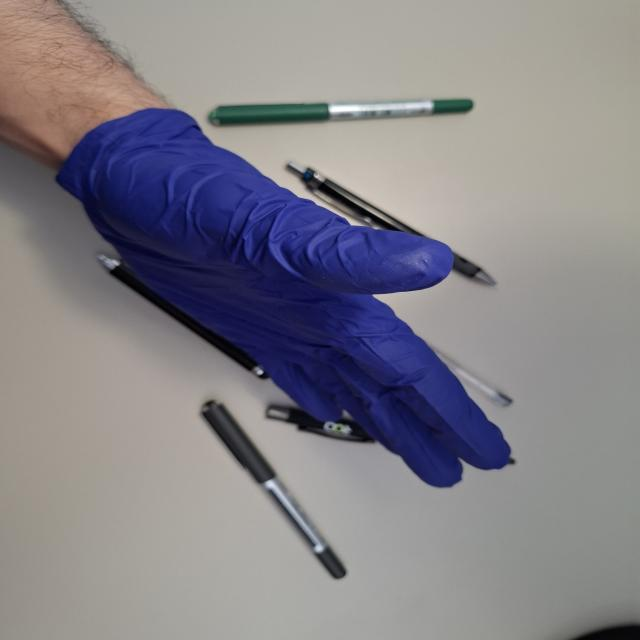glove_on: (54, 108, 515, 490)
